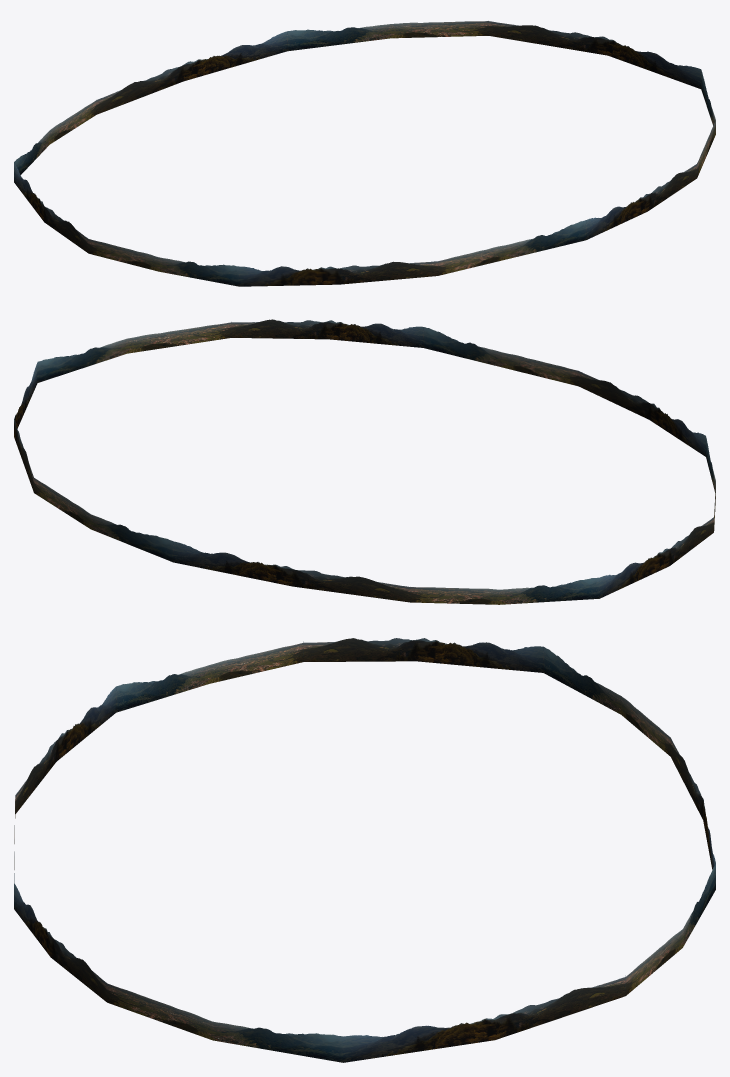
Rendered from bg_mountains.fbx.
3 renders of one model, top to bottom at view 1: azimuth 30°, elevation 25°; view 2: azimuth 150°, elevation 25°; view 3: azimuth 270°, elevation 25°, orthographic. The views are drawn at different scales.
Parts seen in each view (by area): view 1: Mesh; view 2: Mesh; view 3: Mesh.
Boxes of the visible parts, <box> form: Mesh: <box>14,21,715,286</box>; Mesh: <box>14,319,715,604</box>; Mesh: <box>14,638,715,1062</box>.
Size of the model in its own units: 1196188 by 39250 by 883815.
